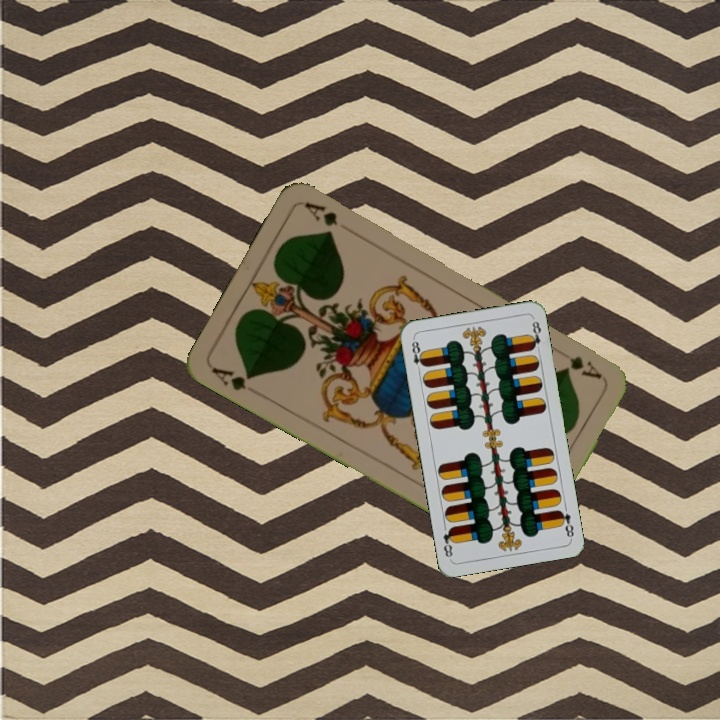E8: (554, 506, 576, 541), (408, 335, 427, 375)
GA: (207, 363, 257, 394), (565, 352, 605, 382)
